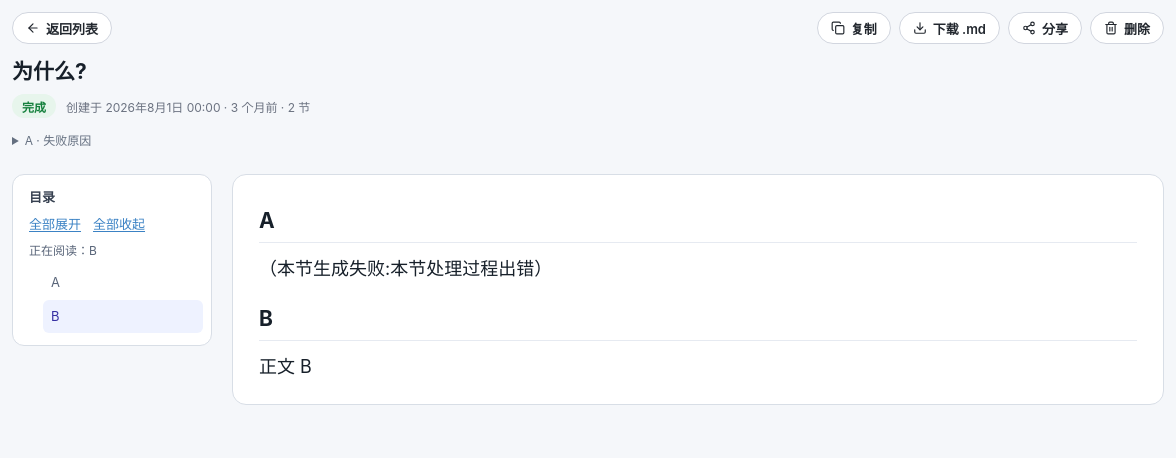
Test: 作者在自己的报告里可以展开看到失败章节的原文
This screenshot has width=1176, height=458.
Expected: the text "（本节生成失败:本节处理过程出错）" is shown, [259,258,552,279]
Expected: the text "OperationalError: connection to 10.9.8.7:5432 refused" is not shown
Step 1. Click the heading "A · 失败原因" → (58, 141), box [25,133,91,148]
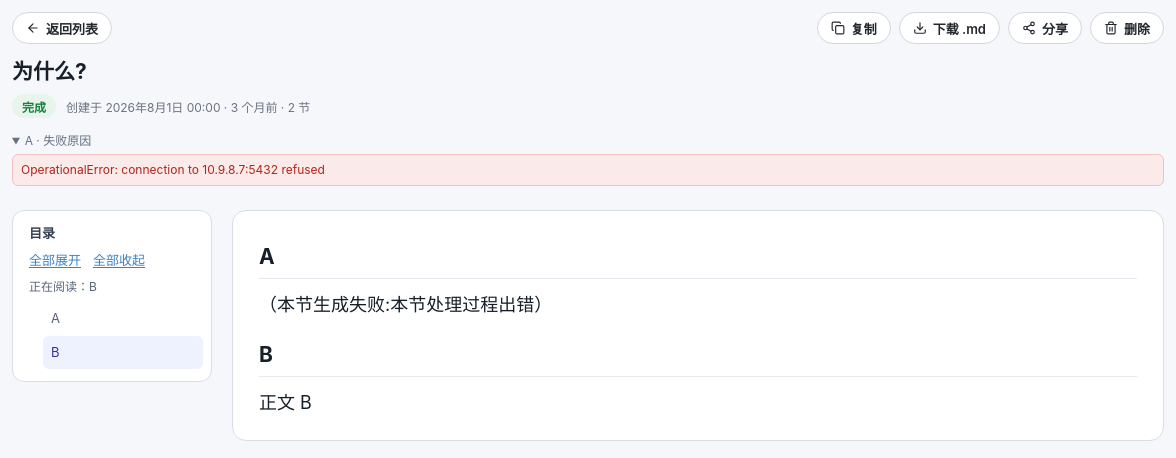
Now the text "OperationalError: connection to 10.9.8.7:5432 refused" is shown, box [12,154,1164,186]
